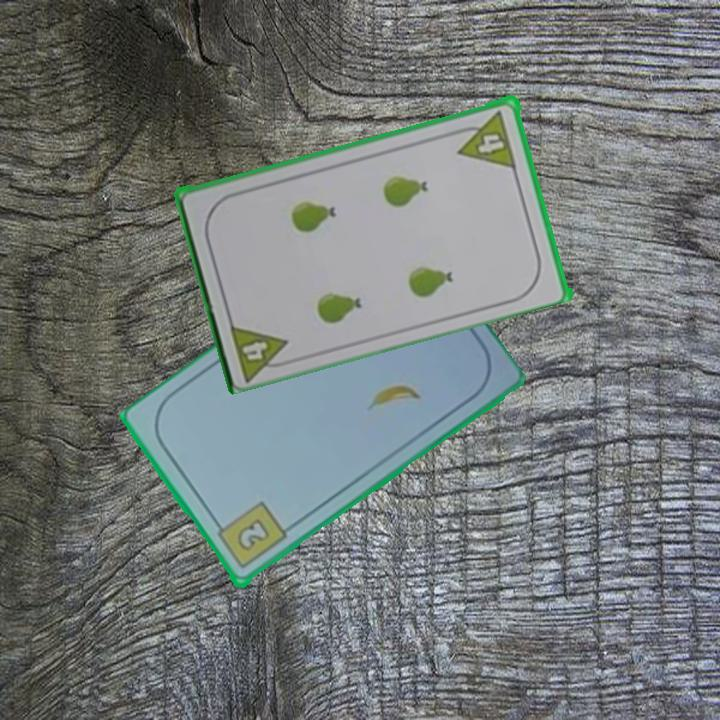2b: (211, 498, 290, 573)
4p: (226, 317, 297, 382), (451, 106, 519, 171)
